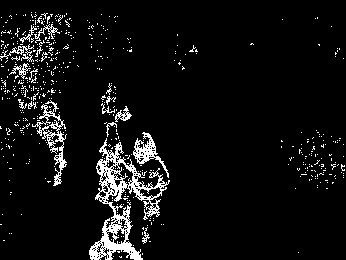person: (132, 131, 171, 246), (94, 136, 141, 219), (37, 100, 67, 185)
